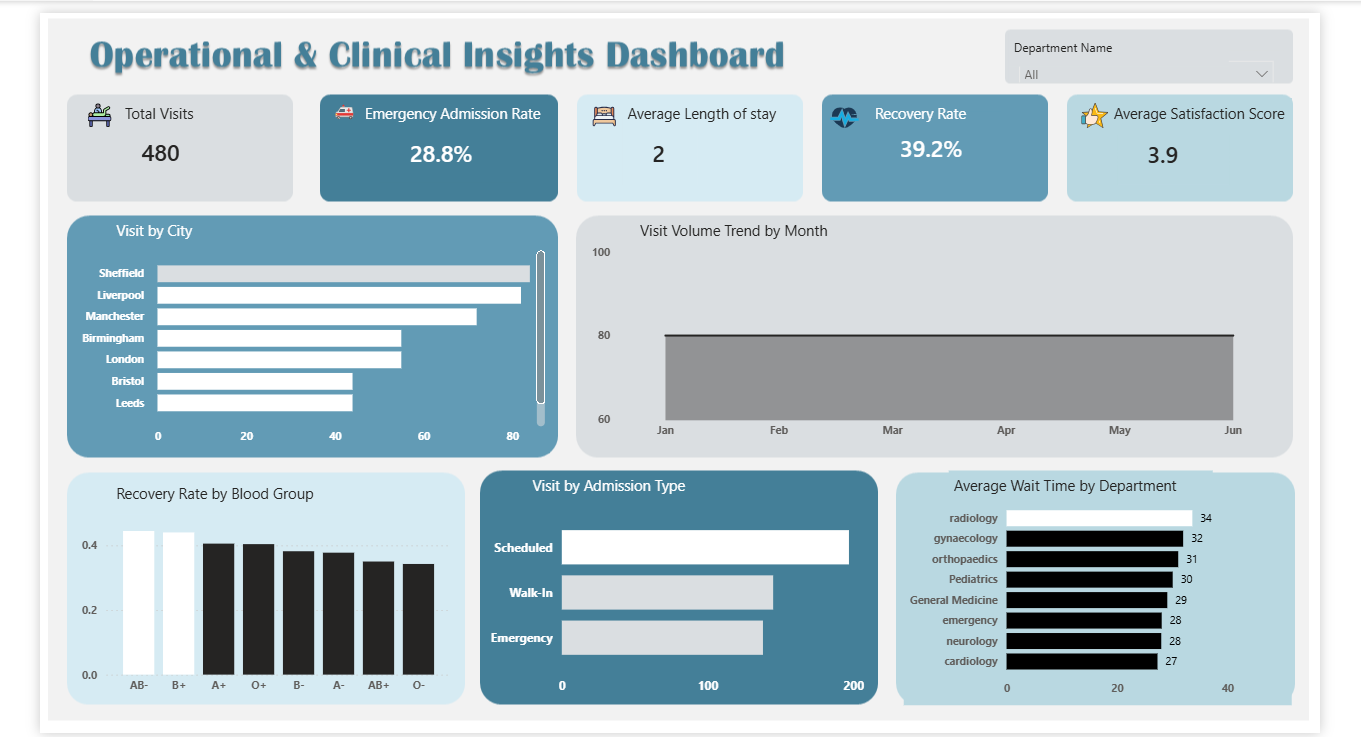

Layout of this report page (visuals, bound fields, positions):
{"tool":"powerbi","page":{"name":"Page 3","canvas":[1280,720],"ordinal":2},"visuals":[{"type":"cardVisual","fields":{"Data":["Dax Measure.Total Visits"]},"box":[71.4,106,111.9,60.7],"z":0},{"type":"cardVisual","fields":{"Data":["Dax Measure.Emergency Admission Rate"]},"box":[340.5,106,136.9,63.1],"z":1000},{"type":"cardVisual","fields":{"Data":["Dax Measure.Avg Length of Stay"]},"box":[582.1,103.6,75,67.9],"z":2000},{"type":"cardVisual","fields":{"Data":["Dax Measure.Recovery Rate"]},"box":[829.8,98.8,131,67.9],"z":3000},{"type":"cardVisual","fields":{"Data":["Dax Measure.Avg Satisfaction Score"]},"box":[1077.4,106,111.9,65.5],"z":4000},{"type":"textbox","box":[79.8,84.5,122.6,32.1],"z":5000},{"type":"textbox","box":[320.2,84.5,189.3,32.1],"z":6000},{"type":"textbox","box":[582.1,84.5,166.7,32.1],"z":7000},{"type":"textbox","box":[829.8,84.5,131,32.1],"z":8000},{"type":"textbox","box":[1069.1,84.5,183.3,32.1],"z":9000},{"type":"barChart","fields":{"Y":["Dax Measure.Total Visits"],"Category":["Dim_Patients.City"]},"box":[35.7,225,473.8,215.5],"z":10000},{"type":"textbox","box":[71.4,202.4,229.8,33.3],"z":11000},{"type":"lineChart","fields":{"Y":["Dax Measure.Total Visits"],"Category":["Date Table.Month Name"]},"box":[546.4,225,697.6,209.5],"z":12000},{"type":"textbox","box":[595.2,202.4,234.5,33.3],"z":13000},{"type":"columnChart","fields":{"Category":["Dim_Patients.BloodGroup"],"Y":["Dax Measure.Recovery Rate"]},"box":[35.7,485.7,379.8,203.6],"z":14000},{"type":"textbox","box":[71.4,465.5,229.8,36.9],"z":15000},{"type":"barChart","fields":{"Category":["RIverside General Hospital Visits.AdmissionType"],"Y":["Dax Measure.Total Visits"]},"box":[445.2,485.7,384.5,204.8],"z":16000},{"type":"textbox","box":[488.1,457.1,215.5,36.9],"z":17000},{"type":"image","box":[47.6,89.3,23.8,27.4],"z":18000},{"type":"image","box":[286.9,86.9,33.3,19],"z":19000},{"type":"image","box":[546.4,89.3,35.7,29.8],"z":20000},{"type":"image","box":[789.3,84.5,31,39.3],"z":21000},{"type":"image","box":[1041.7,89.3,27.4,27.4],"z":22000},{"type":"slicer","fields":{"Values":["Dim_Departments.DepartmentName"]},"box":[969.1,36.9,275,32.1],"z":23000},{"type":"textbox","box":[969.1,20.2,220.2,33.3],"z":24000},{"type":"clusteredBarChart","fields":{"Y":["Dax Measure.Avg Wait Time"],"Category":["Dim_Departments.DepartmentName"]},"box":[864.3,476.2,388.1,216],"z":25000},{"type":"textbox","box":[908.3,457.1,264.3,36.9],"z":26000},{"type":"textbox","box":[377.5,141.2,242.5,30],"z":28000}]}

Visuals, with their boxes on the page's 1280x720 design canvas (x1, y1, x2, y2). These are canvas units, not pixel positions in the 1361x737 screenshot, which may show the page scaled, cropped or inside an application window:
cardVisual - Dax Measure.Total Visits: (x1=71, y1=106, x2=183, y2=167)
cardVisual - Dax Measure.Emergency Admission Rate: (x1=340, y1=106, x2=477, y2=169)
cardVisual - Dax Measure.Avg Length of Stay: (x1=582, y1=104, x2=657, y2=172)
cardVisual - Dax Measure.Recovery Rate: (x1=830, y1=99, x2=961, y2=167)
cardVisual - Dax Measure.Avg Satisfaction Score: (x1=1077, y1=106, x2=1189, y2=172)
textbox: (x1=80, y1=84, x2=202, y2=117)
textbox: (x1=320, y1=84, x2=510, y2=117)
textbox: (x1=582, y1=84, x2=749, y2=117)
textbox: (x1=830, y1=84, x2=961, y2=117)
textbox: (x1=1069, y1=84, x2=1252, y2=117)
barChart - Dax Measure.Total Visits x Dim_Patients.City: (x1=36, y1=225, x2=510, y2=440)
textbox: (x1=71, y1=202, x2=301, y2=236)
lineChart - Dax Measure.Total Visits x Date Table.Month Name: (x1=546, y1=225, x2=1244, y2=434)
textbox: (x1=595, y1=202, x2=830, y2=236)
columnChart - Dim_Patients.BloodGroup x Dax Measure.Recovery Rate: (x1=36, y1=486, x2=416, y2=689)
textbox: (x1=71, y1=466, x2=301, y2=502)
barChart - RIverside General Hospital Visits.AdmissionType x Dax Measure.Total Visits: (x1=445, y1=486, x2=830, y2=690)
textbox: (x1=488, y1=457, x2=704, y2=494)
image: (x1=48, y1=89, x2=71, y2=117)
image: (x1=287, y1=87, x2=320, y2=106)
image: (x1=546, y1=89, x2=582, y2=119)
image: (x1=789, y1=84, x2=820, y2=124)
image: (x1=1042, y1=89, x2=1069, y2=117)
slicer - Dim_Departments.DepartmentName: (x1=969, y1=37, x2=1244, y2=69)
textbox: (x1=969, y1=20, x2=1189, y2=54)
clusteredBarChart - Dax Measure.Avg Wait Time x Dim_Departments.DepartmentName: (x1=864, y1=476, x2=1252, y2=692)
textbox: (x1=908, y1=457, x2=1173, y2=494)
textbox: (x1=378, y1=141, x2=620, y2=171)
